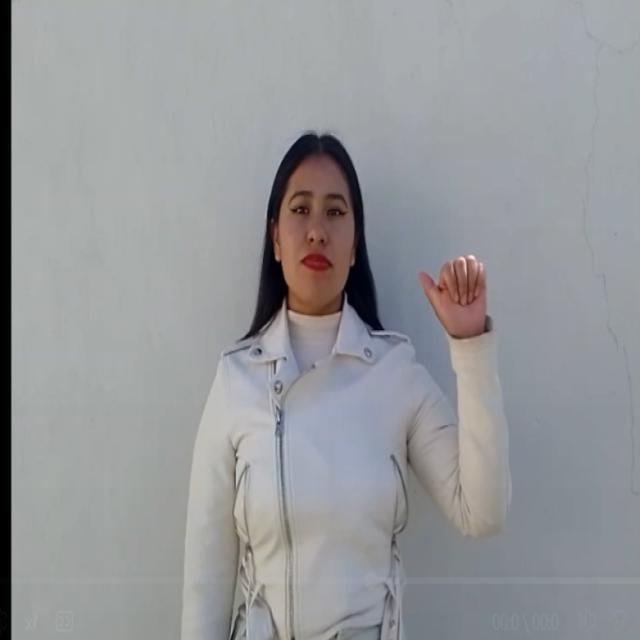A: (405, 237, 502, 352)
